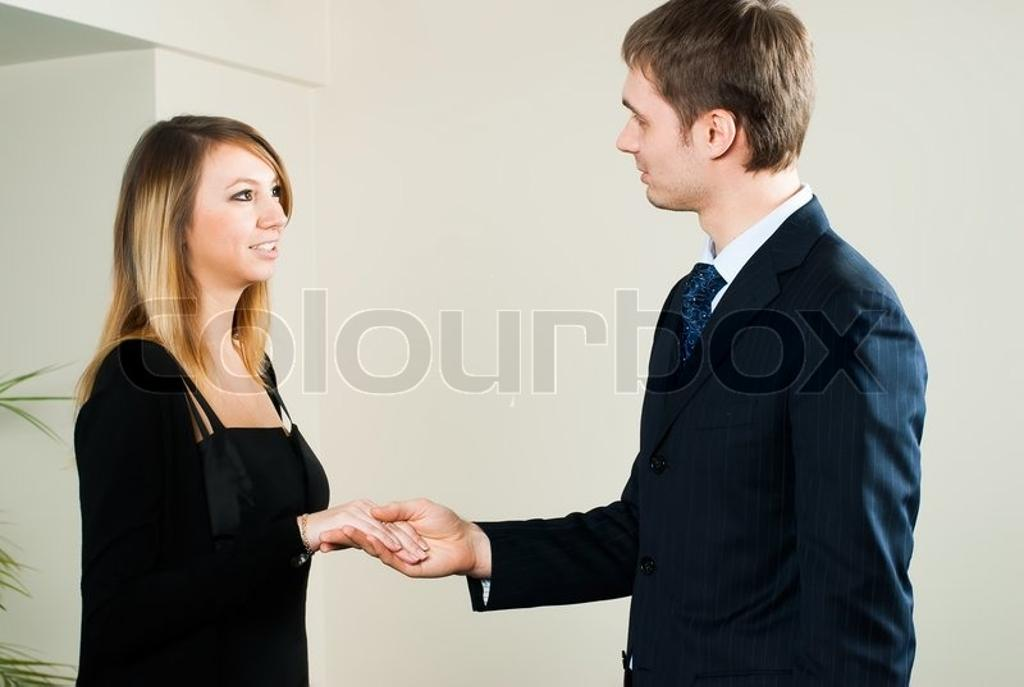face: (616, 38, 696, 214), (196, 138, 290, 280)
